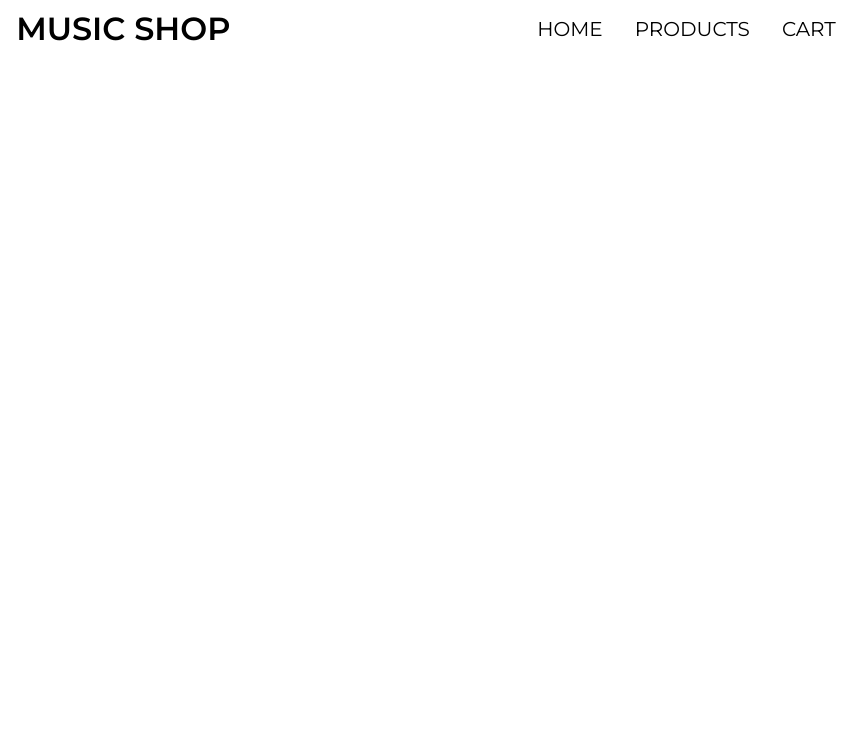
Scenario: Navigation links › should display the home page when clicking on the Home link
What coordinates should you click on to do the following:
click the link "HOME"
I would click on:
 (570, 28)
Its box is [537,16,603,40].
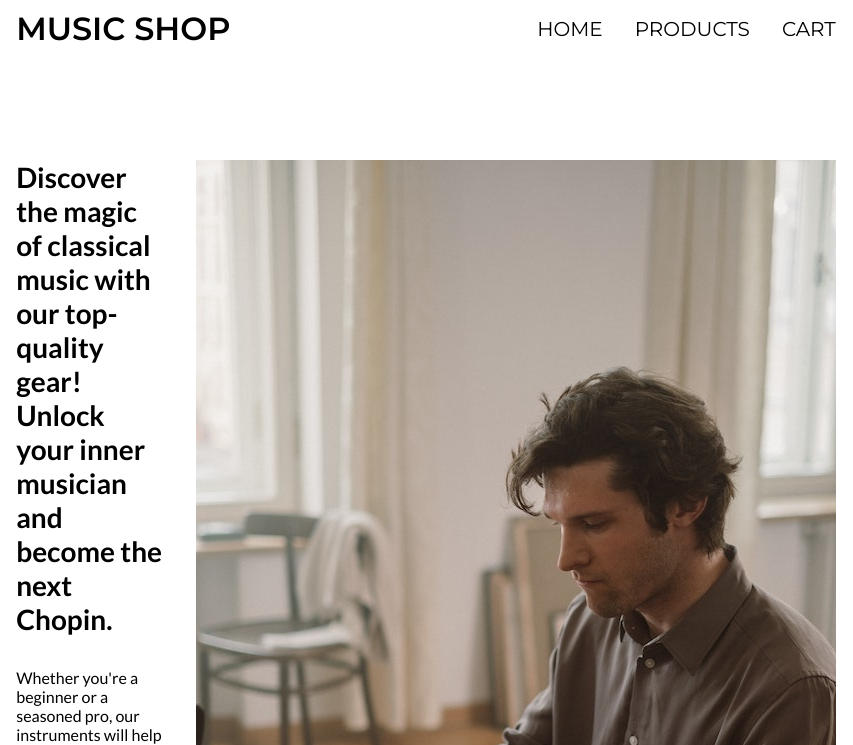
Now the heading "become the next Chopin" is shown, box [16,160,162,636]
